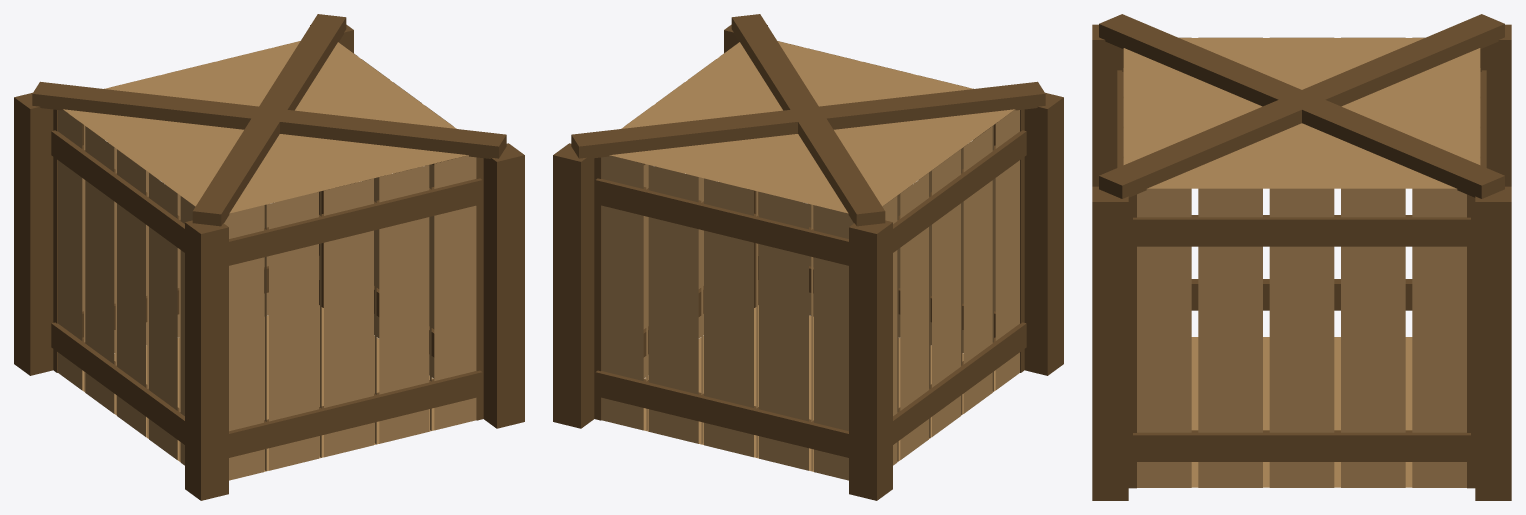
File: wooden_crate.obj
3 views of the same model, side by side, from view 1: azimuth 30°, elevation 25°; view 2: azimuth 150°, elevation 25°; view 3: azimuth 270°, elevation 25° (orthographic). The views are drawn at different scales.
Visible parts, largest first — view 1: WoodenCrate.001; view 2: WoodenCrate.001; view 3: WoodenCrate.001.
Part boxes in pixels (x1,y1,x2,y2): WoodenCrate.001: (14,14,524,500); WoodenCrate.001: (553,14,1063,500); WoodenCrate.001: (1092,14,1511,500).
Bounding box in the file's own units: 1.27 × 1.04 × 1.27.
